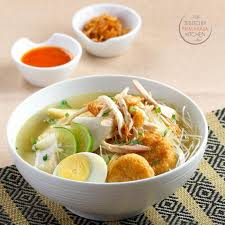soto: (6, 71, 217, 200)
